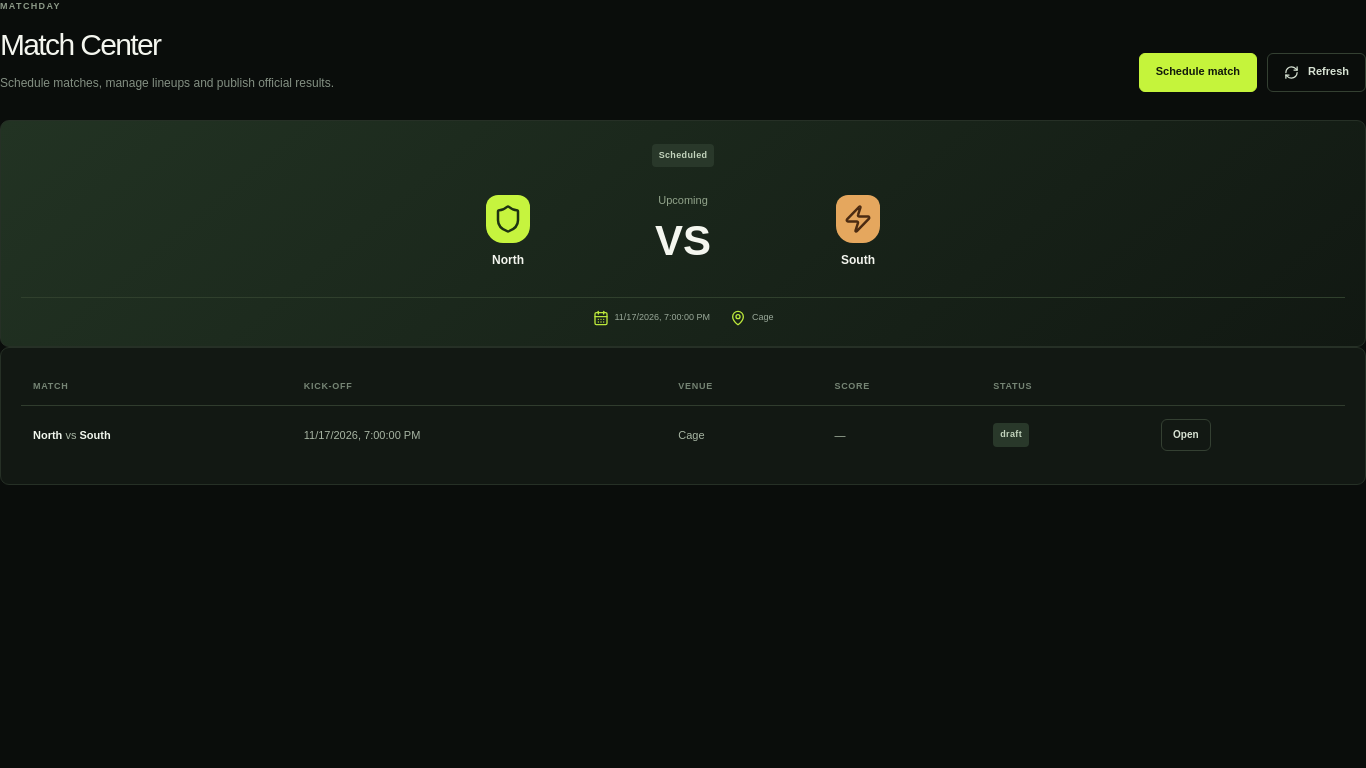
Test: Live fixtures and scheduling › times out a permanently pending save RPC, aborts it and releases loading
Later steps or results of the test are not shown.
Click the button "Open".
click(1186, 435)  # box [1161,419,1211,451]
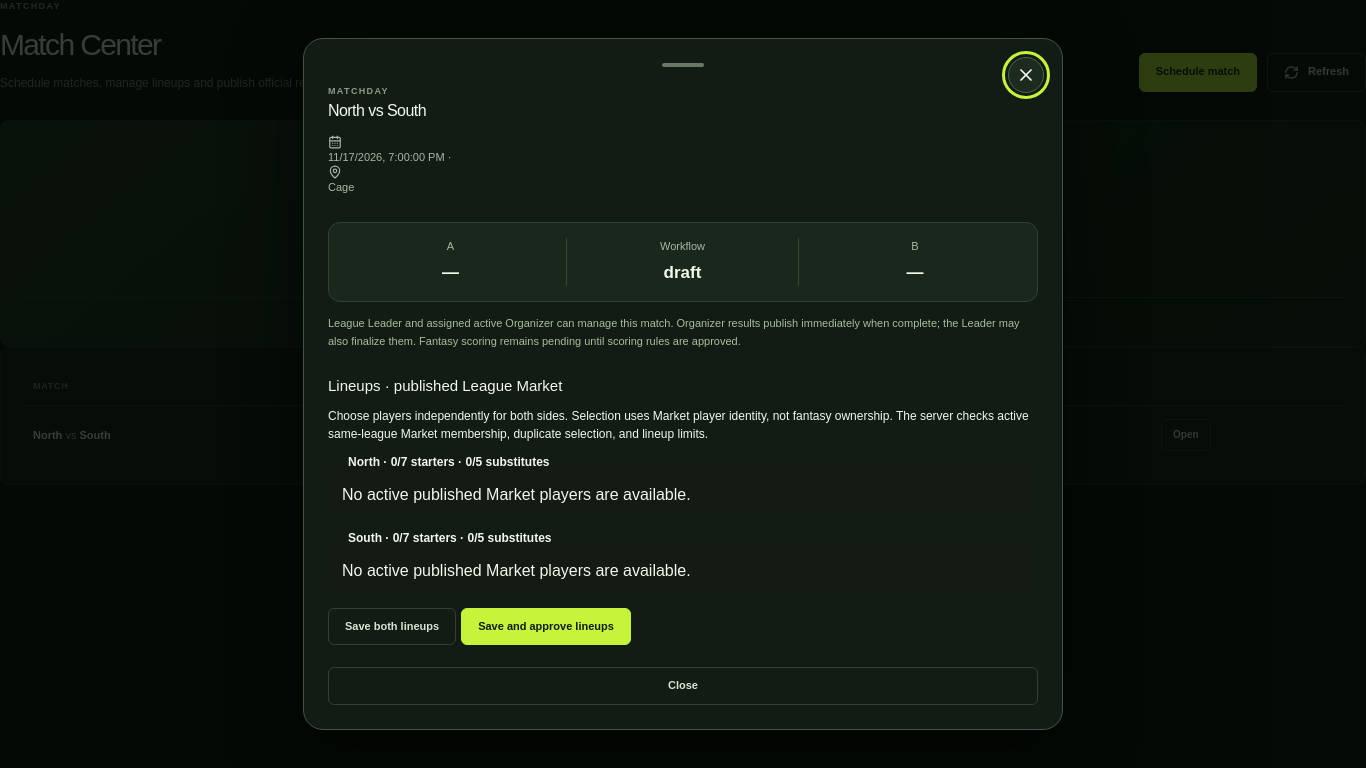
Click the button "Save both lineups".
click(392, 626)  # box [328,608,456,645]
Wait 30000 ms
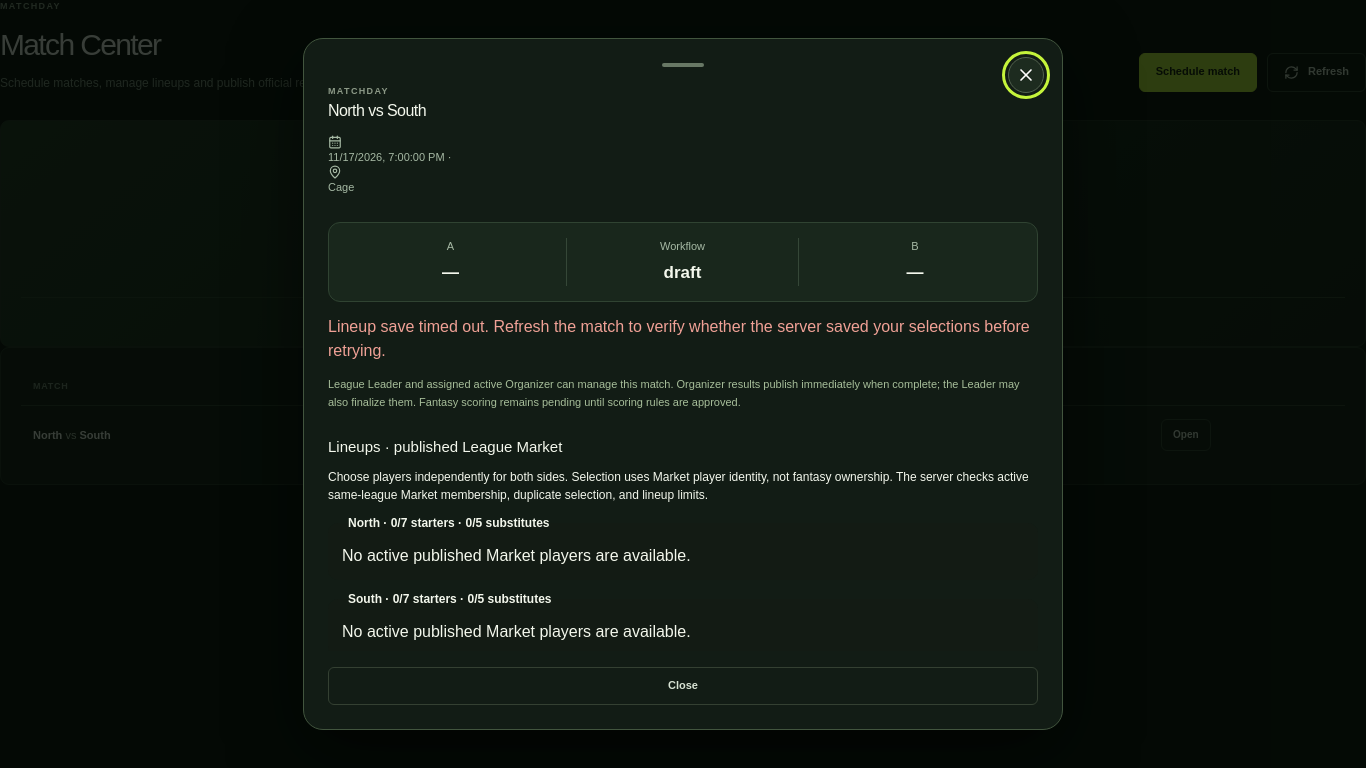
Now the message shows "timed out", box [328,318,1030,359]
